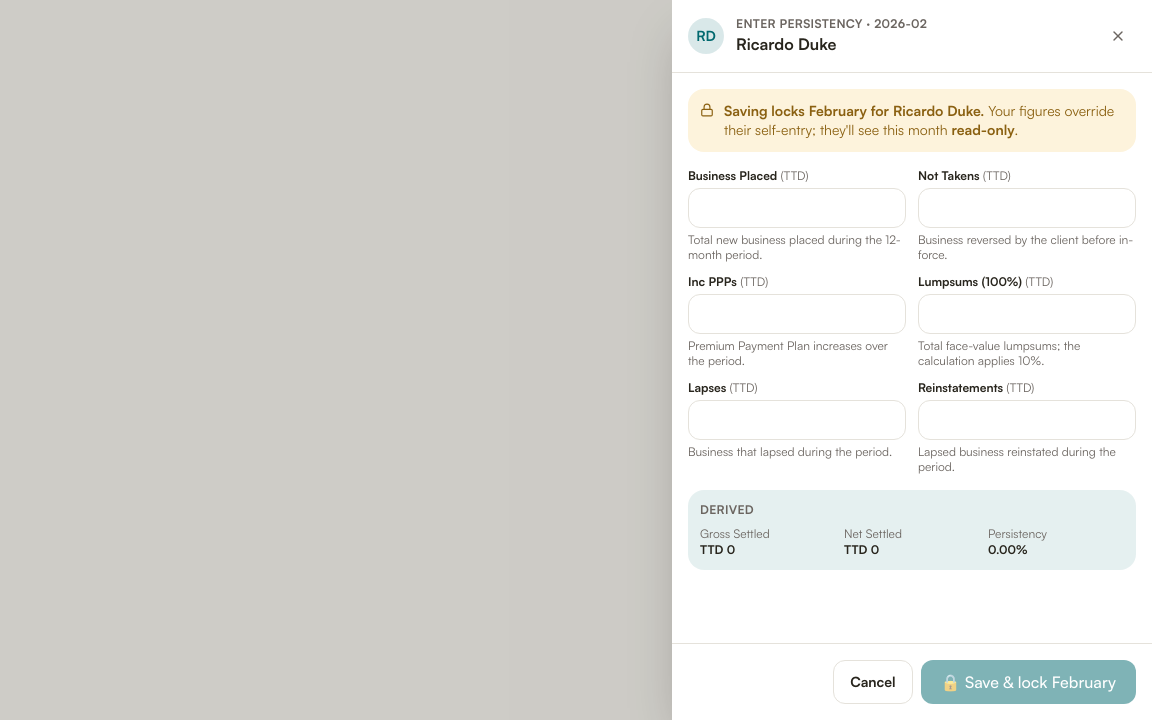
Test: PersistencyEntryForm › updates the derived preview as inputs change (Ricardo Duke validation)
Type "357468.84" into the number field with test id "persistency-input-businessPlaced" at (797, 208), box [688,188,906,228]
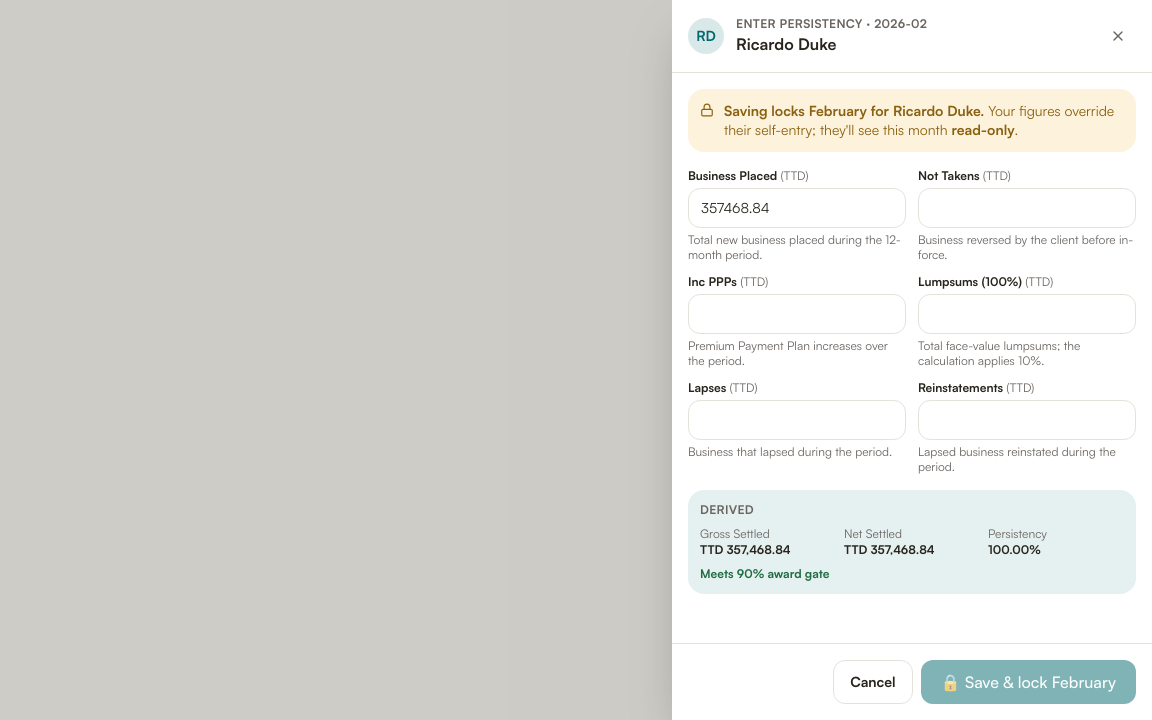
Type "0" into the number field with test id "persistency-input-notTakens" at (1027, 208), box [918,188,1136,228]
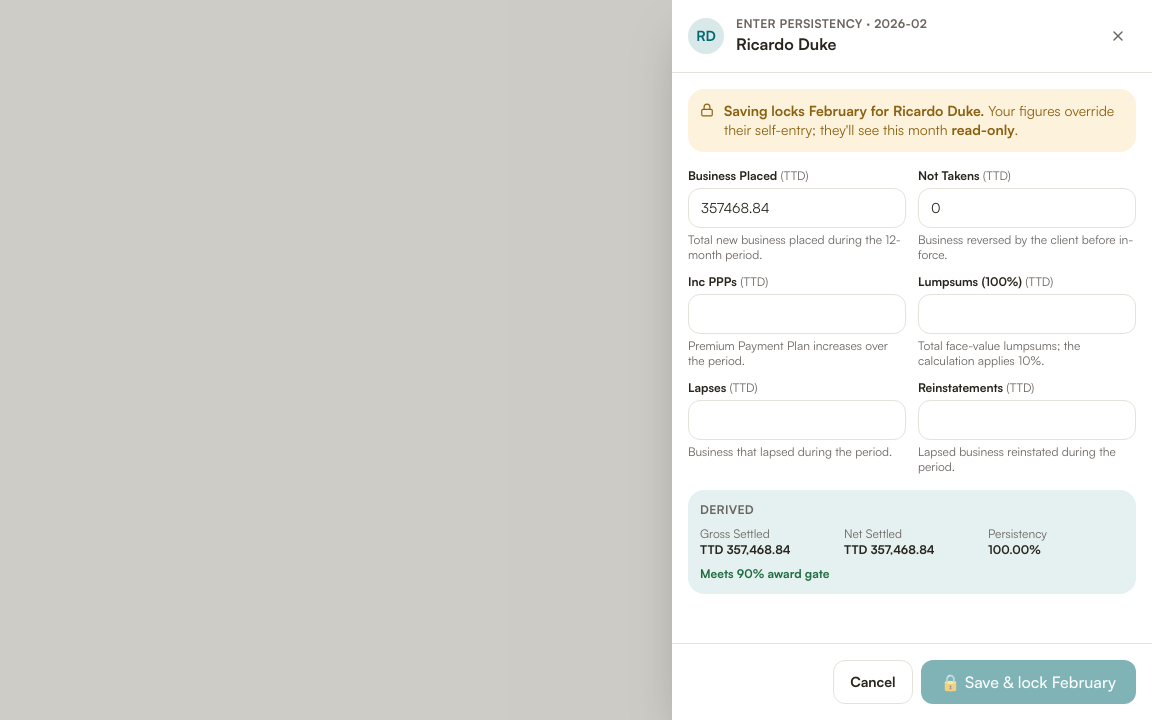
Type "48000" into the number field with test id "persistency-input-incPPPs" at (797, 314), box [688,294,906,334]
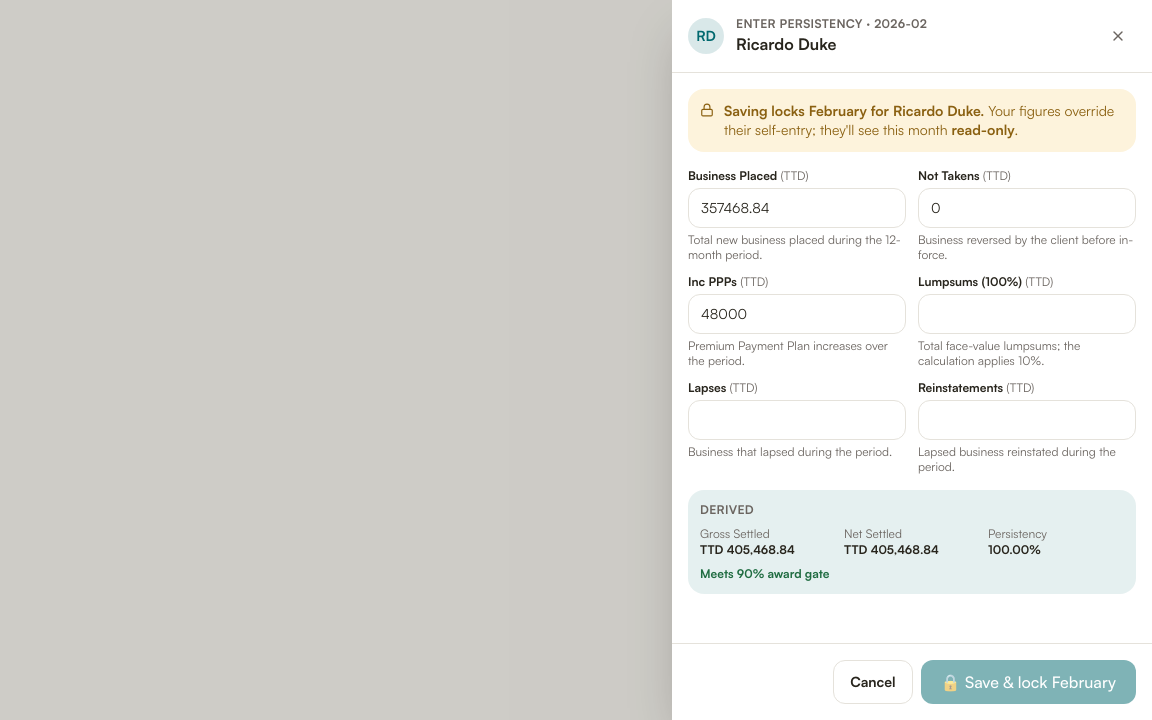
Type "8666.9" into the number field with test id "persistency-input-lumpsums100" at (1027, 314), box [918,294,1136,334]
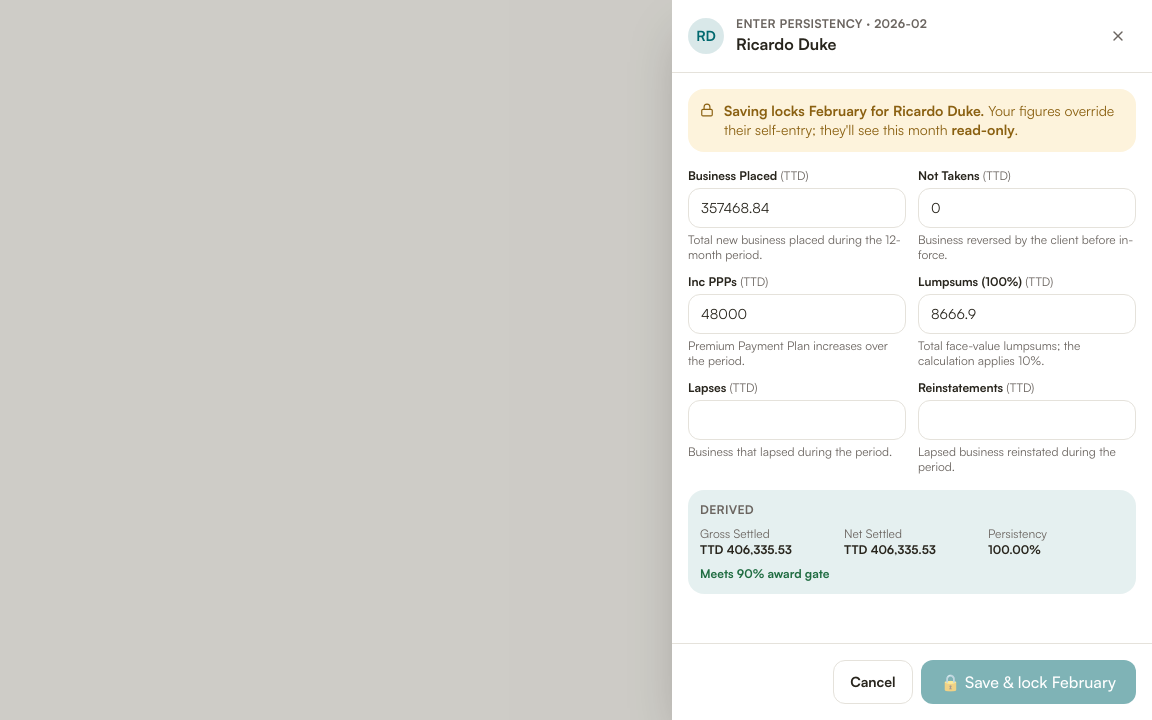
Type "133600.08" into the number field with test id "persistency-input-lapses" at (797, 420), box [688,400,906,440]
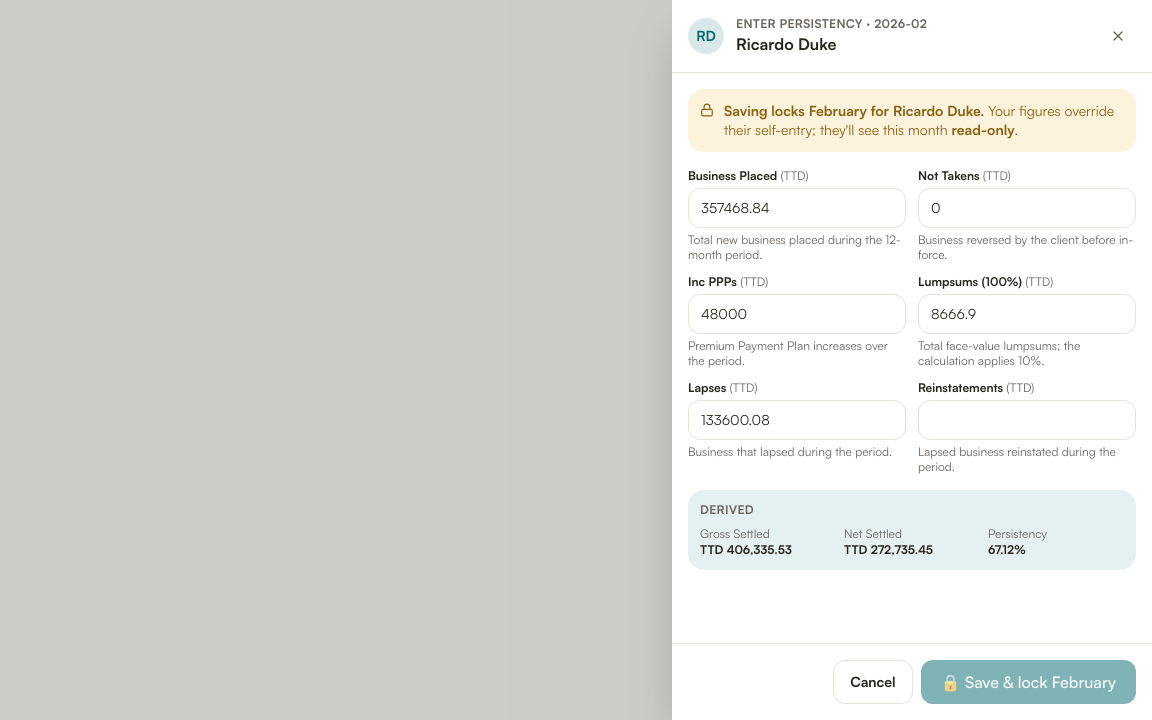
Type "27662.28" into the number field with test id "persistency-input-reinstatements" at (1027, 420), box [918,400,1136,440]
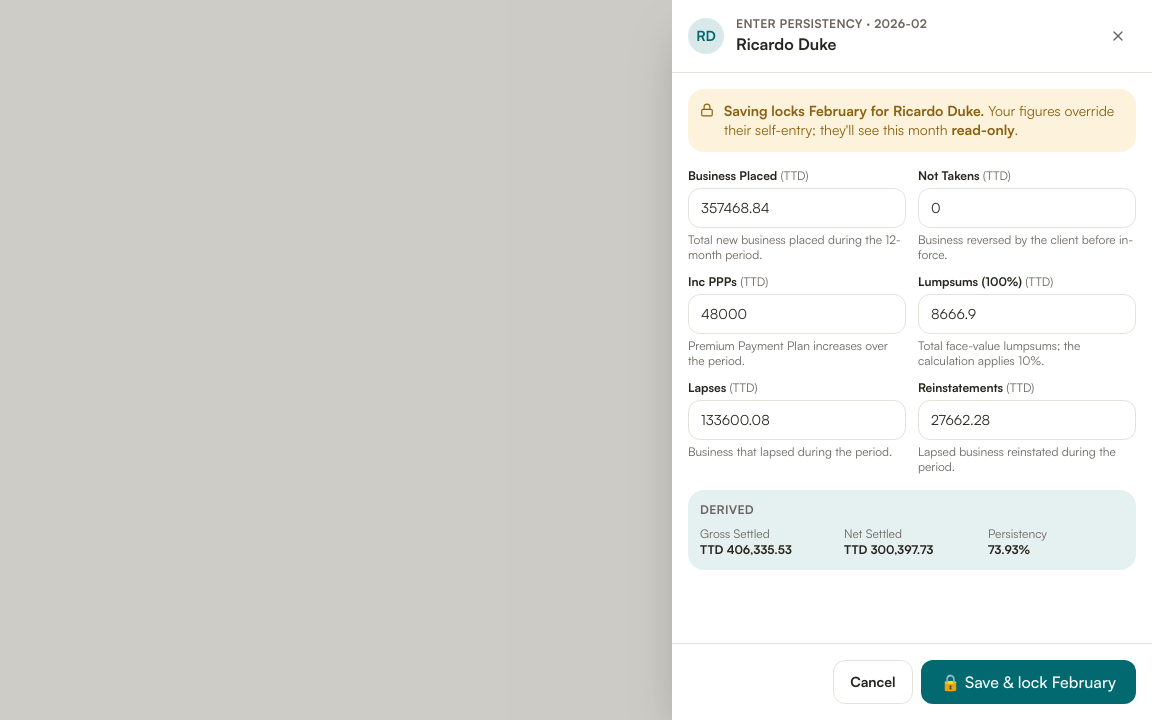
Expected: the text with test id "derived-persistency" reads "73.93%", [988,542,1030,556]
